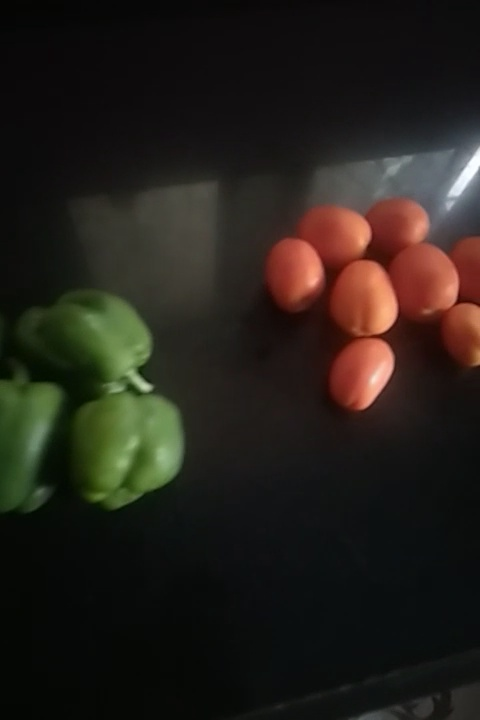capsicum: (16, 285, 153, 398), (72, 381, 170, 511), (1, 364, 71, 524)
tomato: (328, 255, 408, 335), (314, 335, 404, 406), (249, 233, 327, 314), (395, 241, 460, 323), (303, 200, 377, 261), (368, 190, 435, 250), (441, 294, 480, 364), (452, 225, 480, 300)
